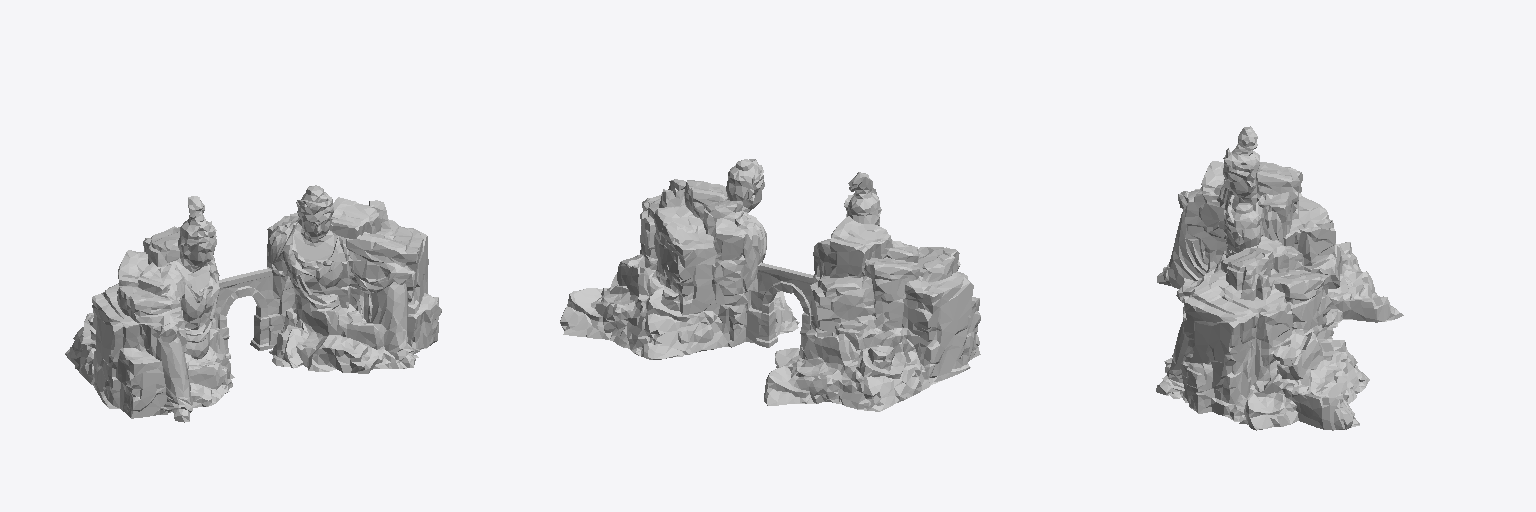
The model's file is Buda_b.obj.
3 views of the same model, side by side, from view 1: azimuth 30°, elevation 25°; view 2: azimuth 150°, elevation 25°; view 3: azimuth 270°, elevation 25° (orthographic).
Visible parts, largest first — view 1: Buda_b, Buda_a; view 2: Buda_a, Buda_b; view 3: Buda_b, Buda_a.
Boxes of the visible parts, <box> form: Buda_b: <box>248,185,441,373</box>; Buda_a: <box>65,196,254,422</box>; Buda_a: <box>764,172,980,411</box>; Buda_b: <box>560,159,799,359</box>; Buda_b: <box>1156,203,1369,430</box>; Buda_a: <box>1157,126,1403,327</box>.
Size of the model in its own units: 13.46 by 6.64 by 8.25.